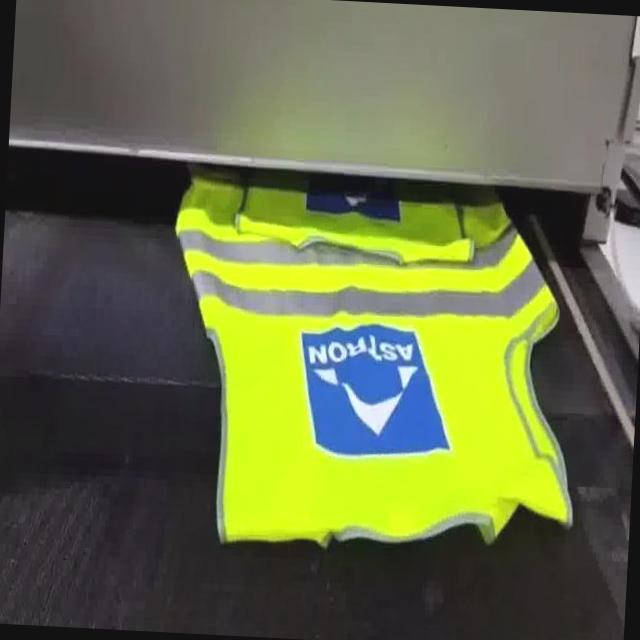vest: (154, 173, 592, 568)
